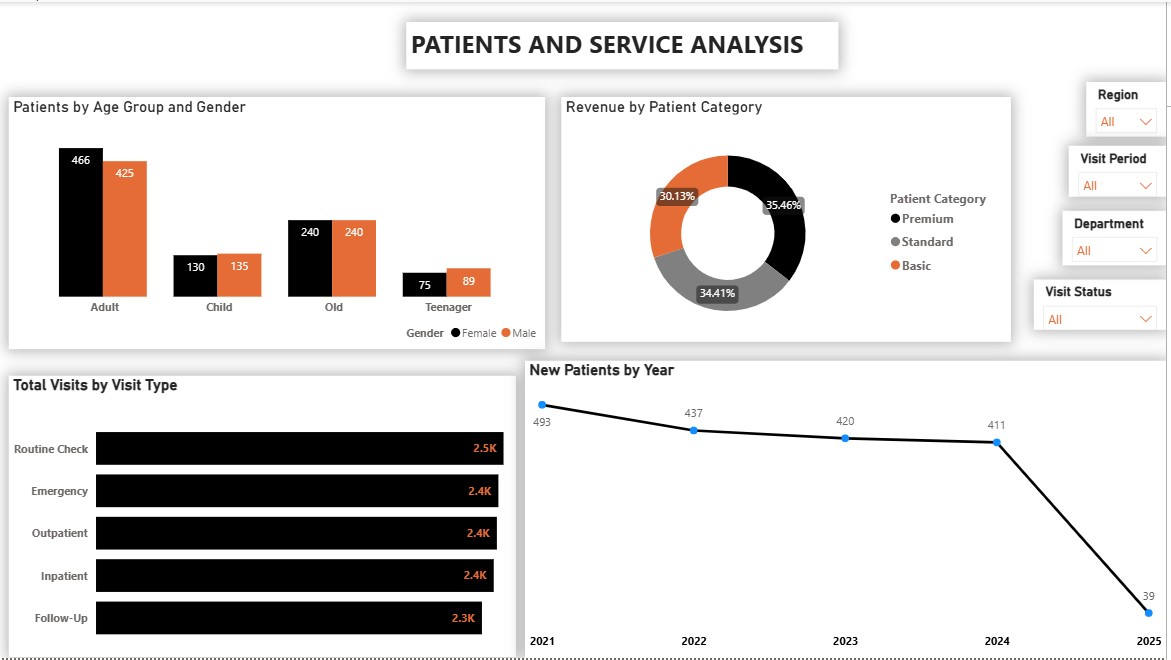

The page's visual inventory and layout, read from the dashboard file:
{"tool":"powerbi","page":{"name":"Patient & Service Analysis","canvas":[1280,720],"ordinal":1},"visuals":[{"type":"textbox","box":[446,22,474.8,52.1],"z":0},{"type":"slicer","fields":{"Values":["Visits.Visit_Status"]},"box":[1134.8,304.6,145.5,54.9],"z":1000},{"type":"slicer","fields":{"Values":["Visits.Department"]},"box":[1166.4,229.2,113.9,60.4],"z":2000},{"type":"slicer","fields":{"Values":["Locations.Region"]},"box":[1192.5,87.8,87.8,60.4],"z":3000},{"type":"slicer","fields":{"Values":["Visits.Visit_Months"]},"box":[1173.2,157.8,107,56.3],"z":4000},{"type":"clusteredColumnChart","title":"Patients by Age Group and Gender","fields":{"Y":["DAX MEASURES.Total Patients"],"Category":["Patients.Age Group"],"Series":["Patients.Gender"]},"box":[9.6,104.3,588.7,277.2],"z":5000},{"type":"donutChart","title":"Revenue by Patient Category","fields":{"Y":["DAX MEASURES.Total Revenue"],"Category":["Patients.Patient_Category"]},"box":[616.1,104.3,494,269],"z":6000},{"type":"clusteredBarChart","title":"Total Visits by Visit Type","fields":{"Category":["Visits.Visit_Type"],"Y":["DAX MEASURES.Total Visits"]},"box":[9.6,410.3,557.1,308.7],"z":7000},{"type":"lineChart","title":"New Patients by Year","fields":{"Category":["Patients.Registration_Date.Variation.Date Hierarchy.Year","Patients.Registration_Date.Variation.Date Hierarchy.Quarter","Patients.Registration_Date.Variation.Date Hierarchy.Month","Patients.Registration_Date.Variation.Date Hierarchy.Day"],"Y":["DAX MEASURES.New Patients by Month"]},"box":[576.3,393.8,703.9,326.6],"z":8000}]}

Visuals, with their boxes in screenshot pixels (x1, y1, x2, y2), scaled from the page's 1280x720 canvas onto the 1171x660 screenshot:
textbox: bbox=[408, 20, 842, 68]
slicer - Visits.Visit_Status: bbox=[1038, 279, 1170, 330]
slicer - Visits.Department: bbox=[1067, 210, 1170, 265]
slicer - Locations.Region: bbox=[1091, 80, 1170, 136]
slicer - Visits.Visit_Months: bbox=[1073, 145, 1170, 196]
"Patients by Age Group and Gender" clusteredColumnChart: bbox=[9, 96, 547, 350]
"Revenue by Patient Category" donutChart: bbox=[564, 96, 1016, 342]
"Total Visits by Visit Type" clusteredBarChart: bbox=[9, 376, 518, 659]
"New Patients by Year" lineChart: bbox=[527, 361, 1170, 659]
